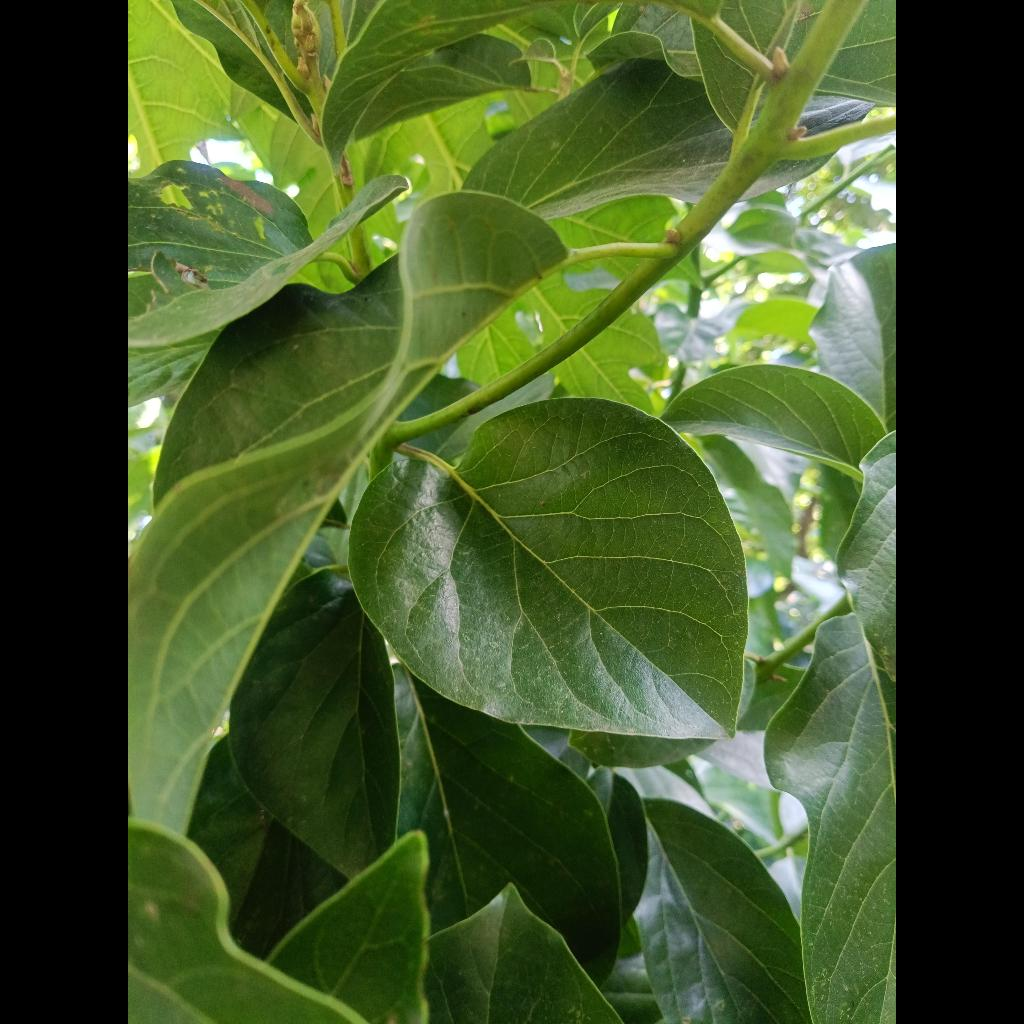Healthy: (350, 399, 748, 738)
